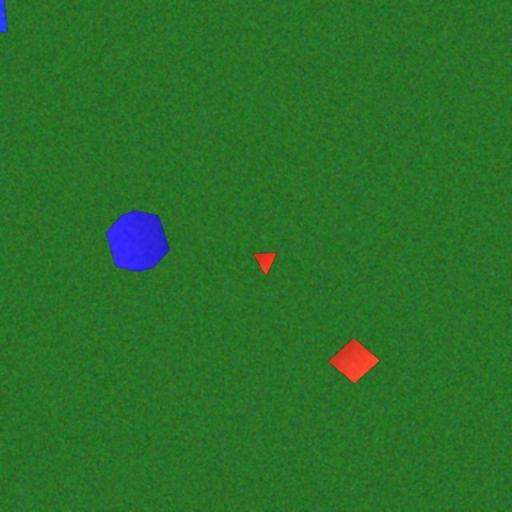RED_SQUARE: (327, 338, 381, 384)
